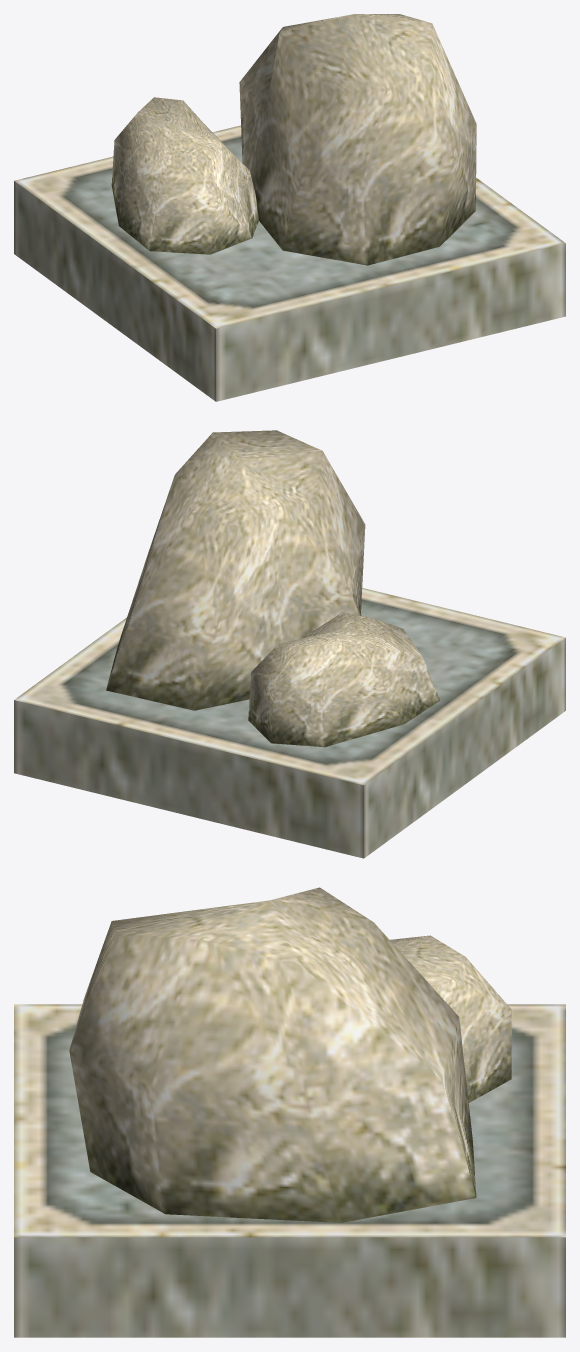
The model's file is stones1.glb.
The picture shows the model from 3 angles, top to bottom: view 1: azimuth 30°, elevation 25°; view 2: azimuth 150°, elevation 25°; view 3: azimuth 270°, elevation 25°; orthographic projection. The views are drawn at different scales.
Visible parts, largest first — view 1: stones1; view 2: stones1; view 3: stones1.
Boxes of the visible parts, x1=… form: stones1: x1=14, y1=14, x2=565, y2=401; stones1: x1=14, y1=430, x2=565, y2=858; stones1: x1=14, y1=887, x2=565, y2=1337.
Bounding box in the file's own units: 5 × 3.59 × 5.
Materials: 1 (1 with a texture image).
